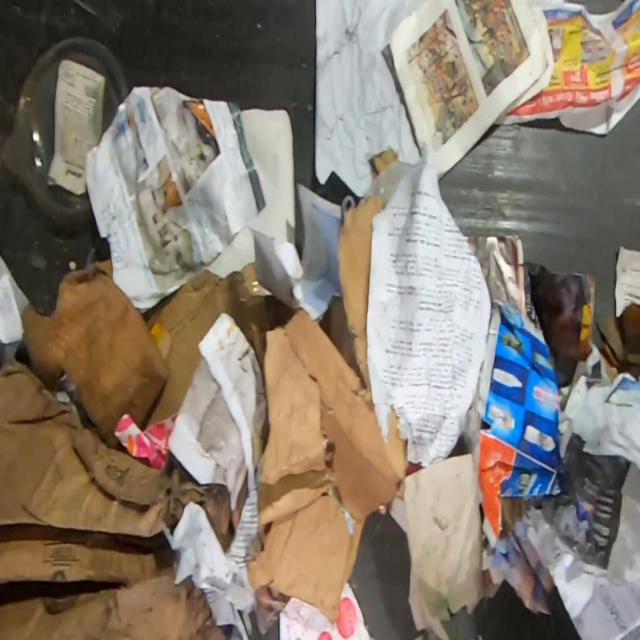cardboard: (0, 357, 234, 640), (20, 257, 301, 449), (246, 307, 410, 625), (474, 298, 571, 548), (338, 193, 388, 392)
rigid_plastic: (2, 35, 130, 230)
